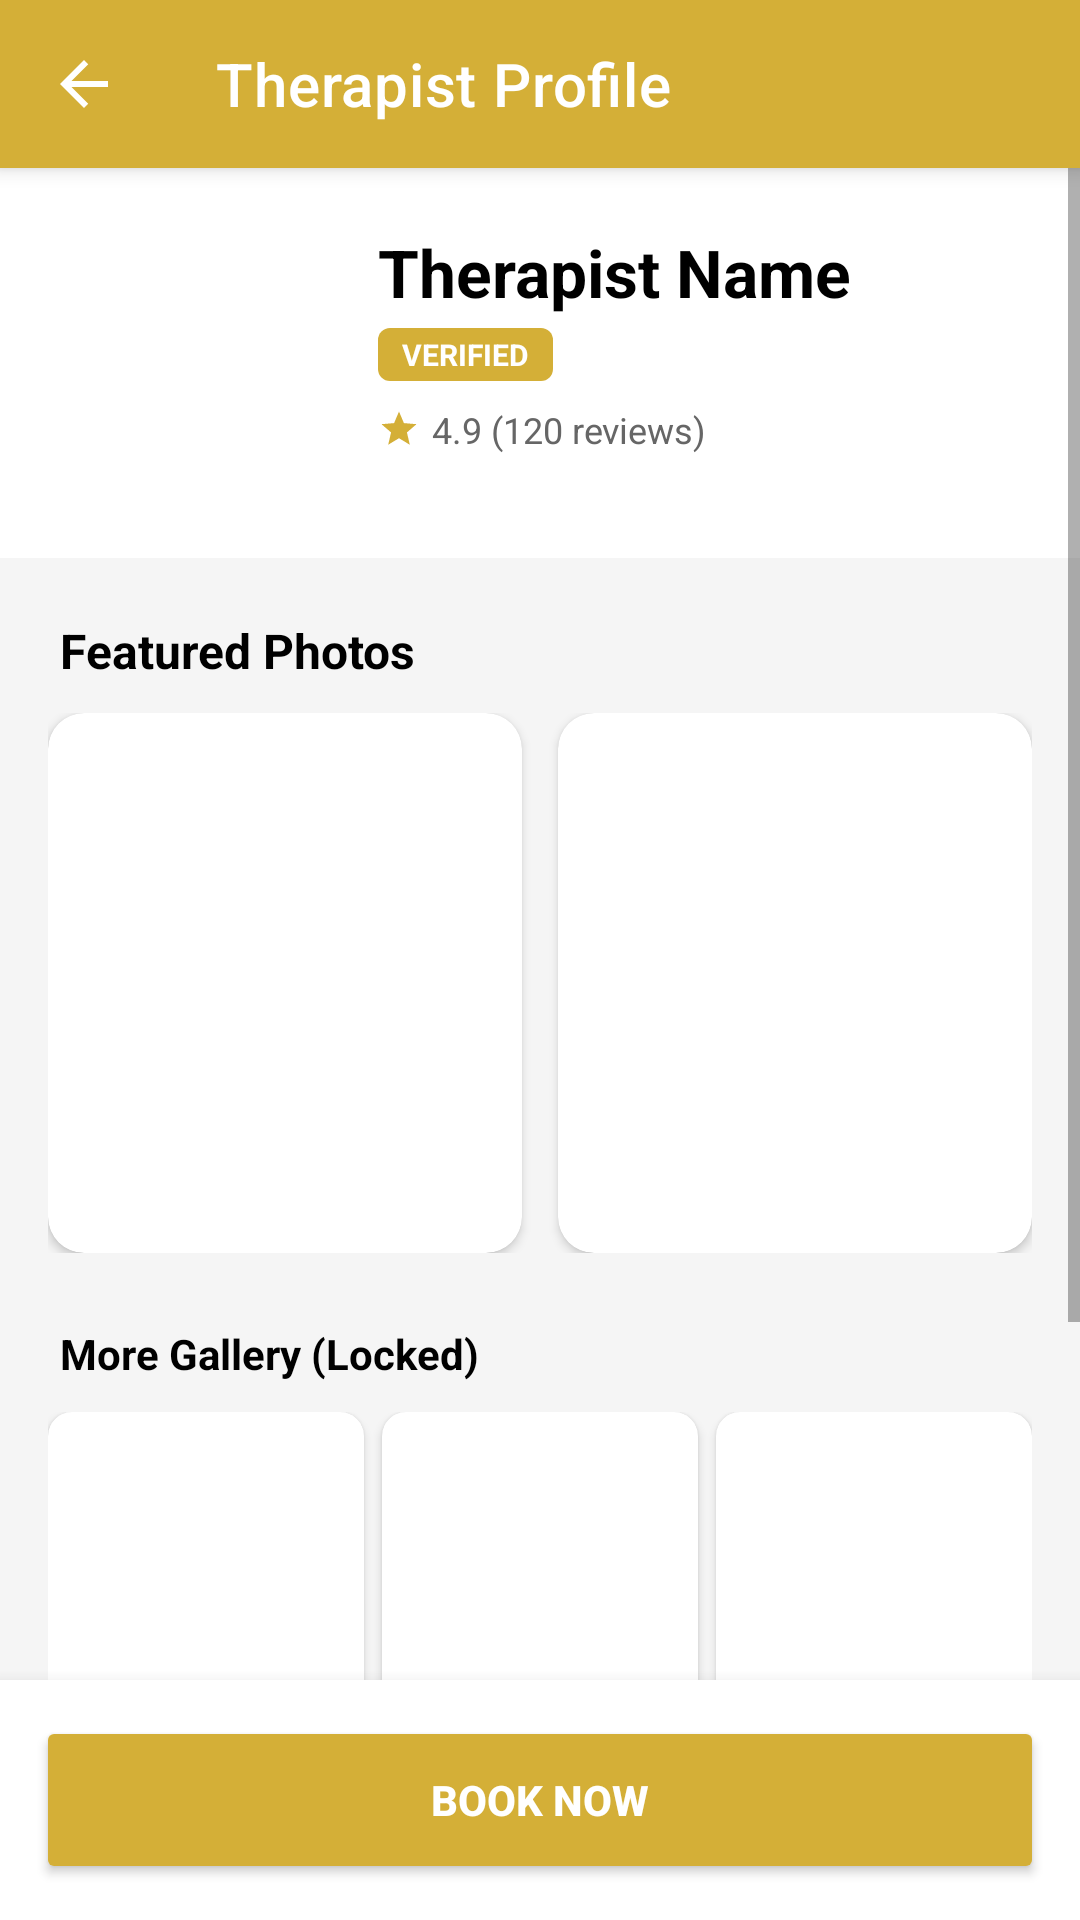

Icon bounding boxes for this 1080*1920 phone screenshot, format (left=x1, top=y1, right=x2, bottom=y2):
star gold: (left=382, top=412, right=416, bottom=445)
